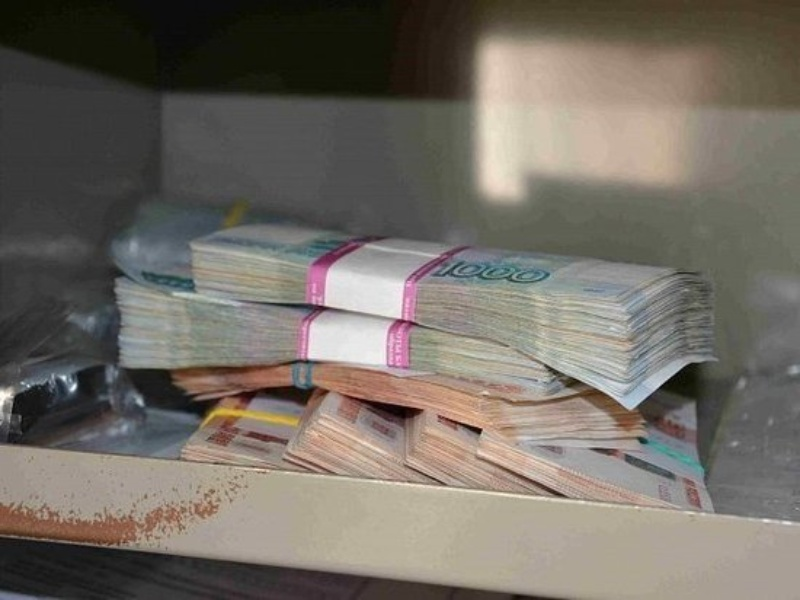cash: (114, 223, 716, 514)
